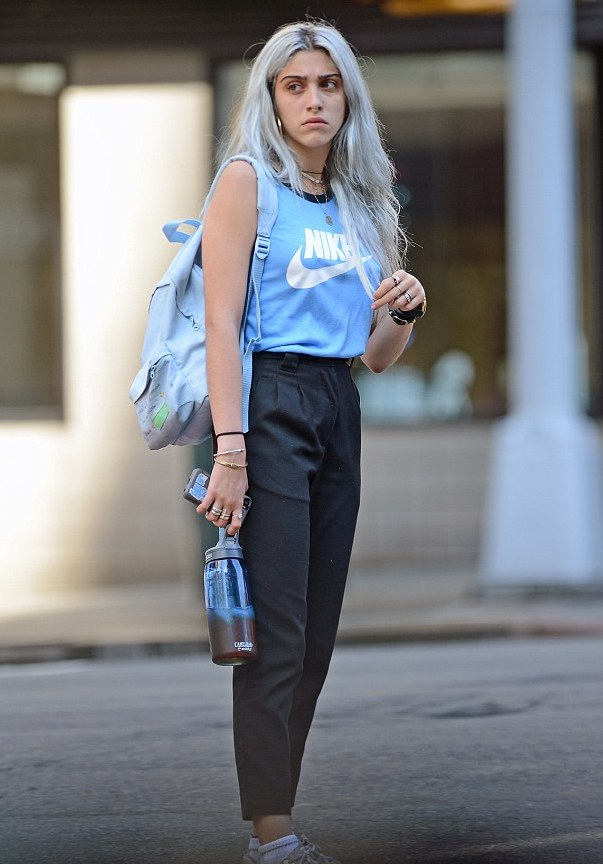Person: (195, 19, 428, 864)
